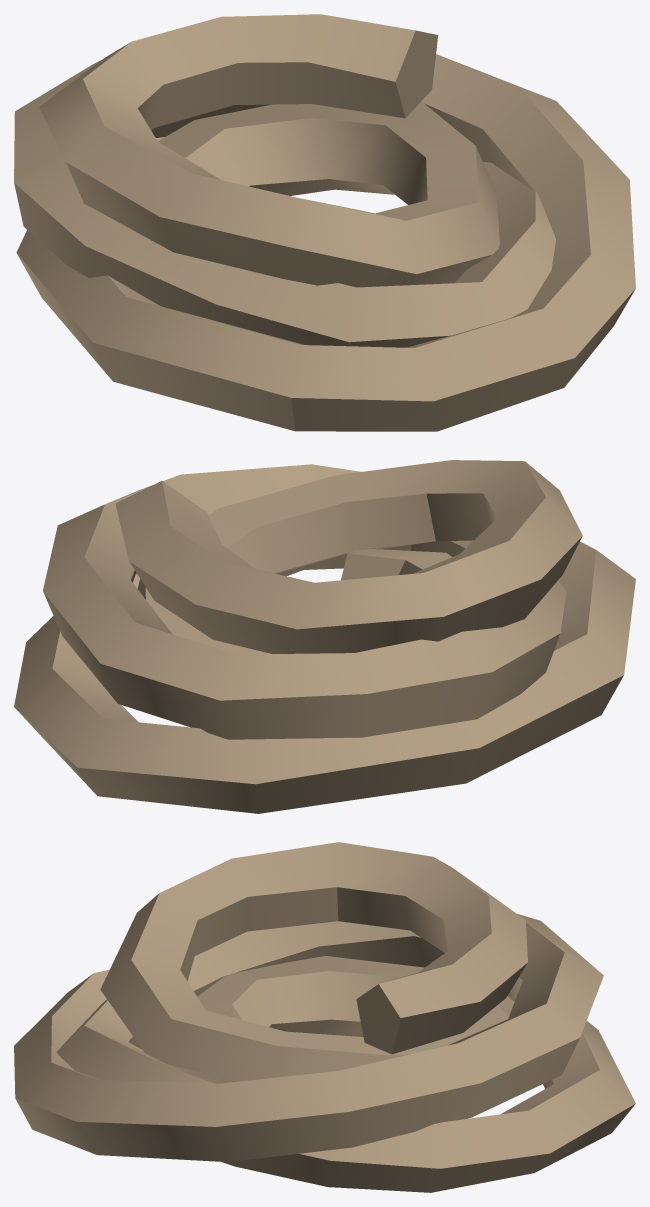
The model's file is Rope.fbx.
The picture shows the model from 3 angles, top to bottom: view 1: azimuth 30°, elevation 25°; view 2: azimuth 150°, elevation 25°; view 3: azimuth 270°, elevation 25°; orthographic projection. The views are drawn at different scales.
Visible parts, largest first — view 1: Rope; view 2: Rope; view 3: Rope.
Boxes of the visible parts, box(x1,y1,x2,y2) form: Rope: box(14, 14, 635, 431); Rope: box(14, 460, 635, 813); Rope: box(14, 842, 635, 1192).
Bounding box in the file's own units: 63.82 × 24.56 × 76.7.
